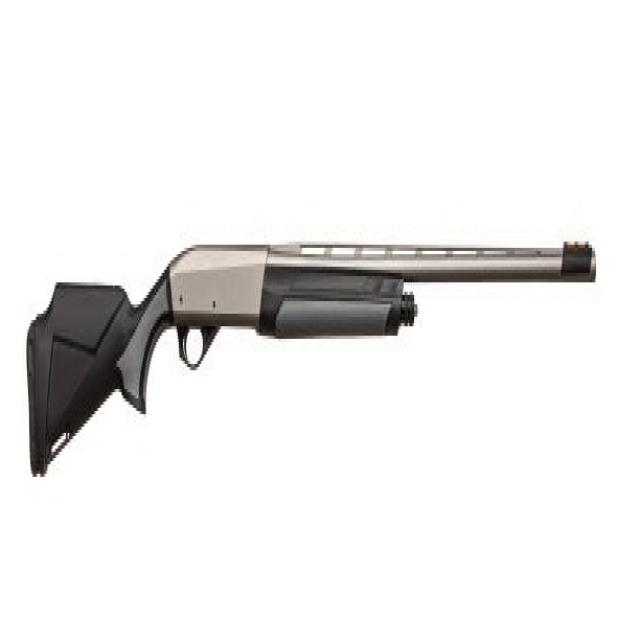rifle: (23, 221, 597, 493)
